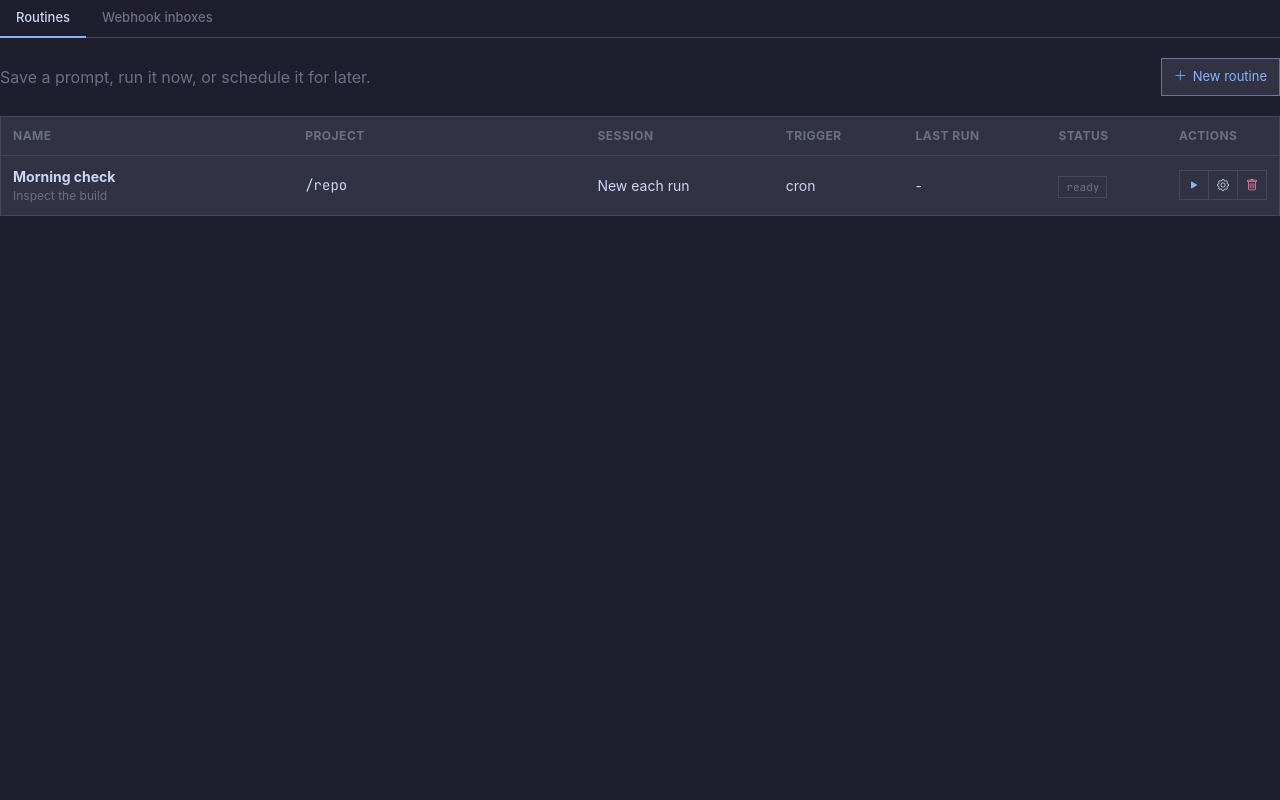
Test case: Routines › closes the form once saved even when the refresh fails
Step 1. Click the button named "Settings" → (1222, 185), box [1208, 171, 1237, 199]
(page scrolled)
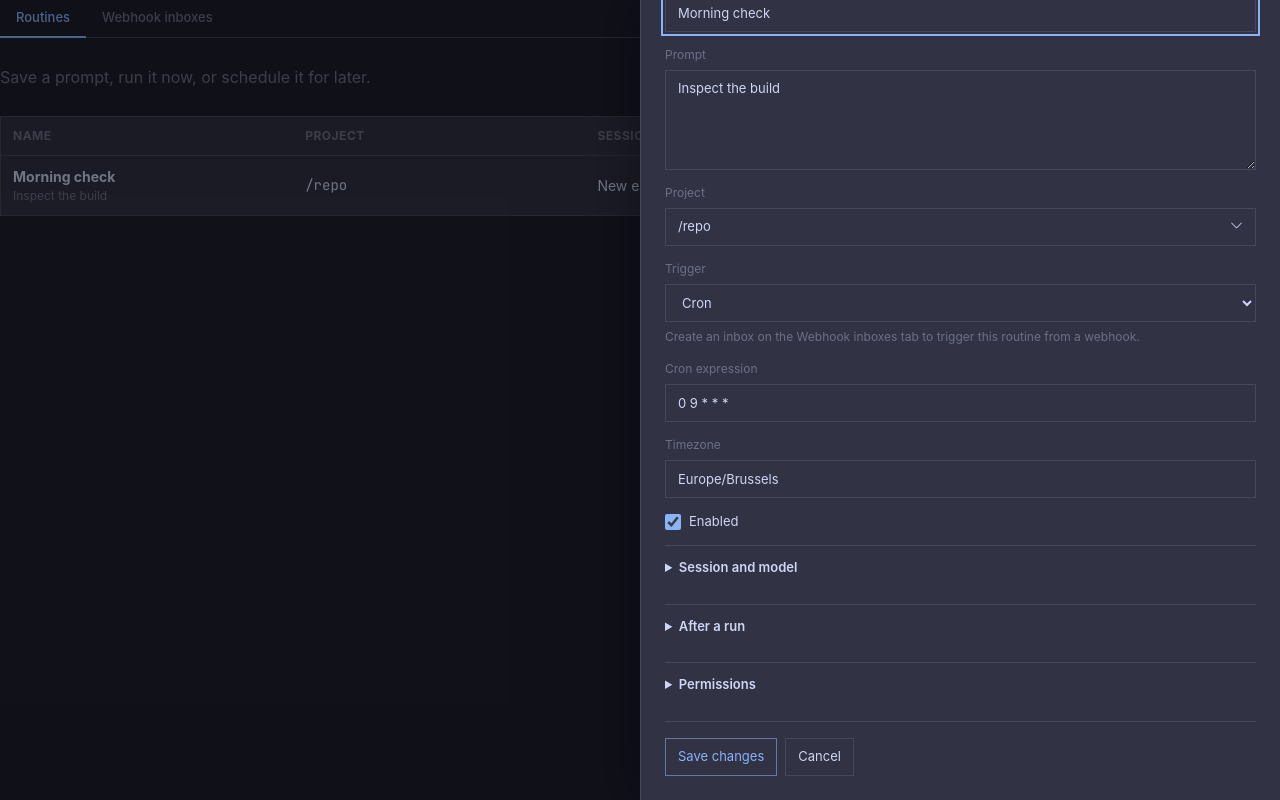
Step 2. Click the button "Save changes" → (721, 756), box [665, 738, 777, 776]
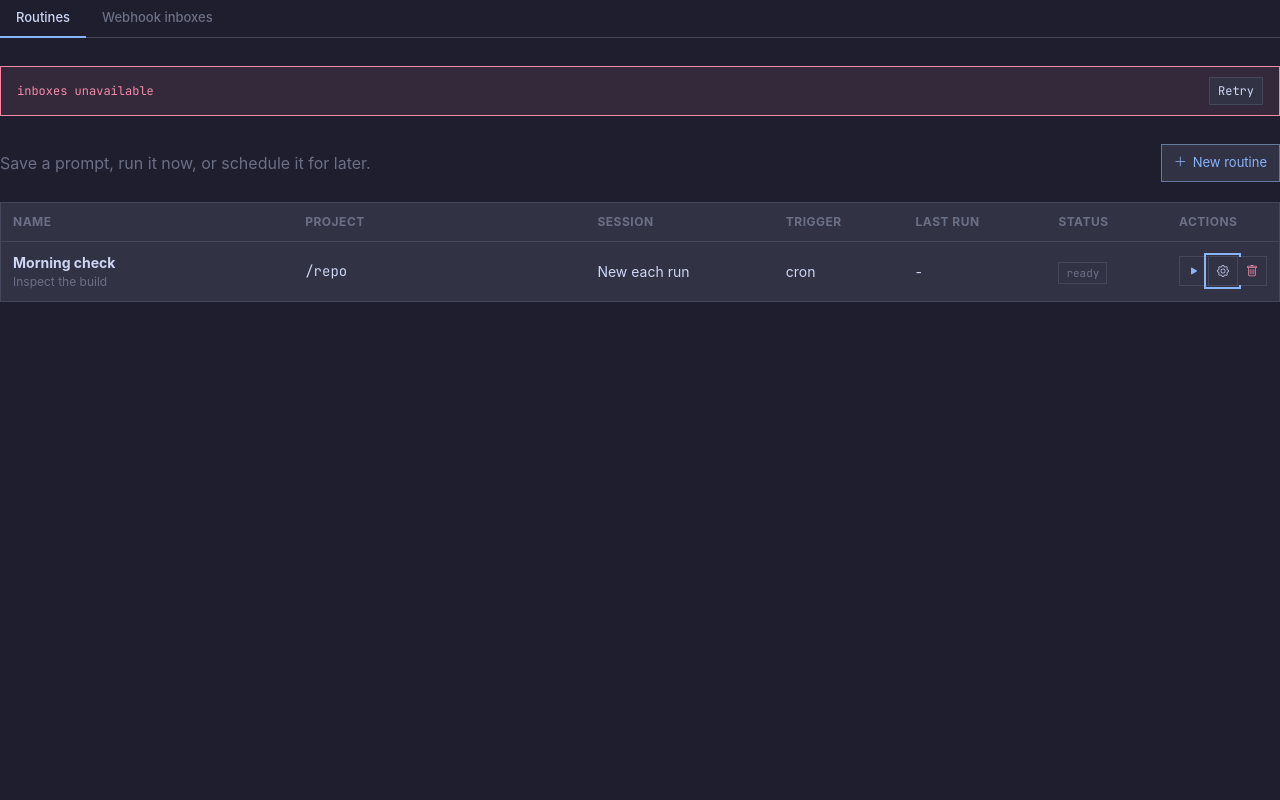
Expected: the text "inboxes unavailable" is shown, [17, 82, 154, 98]
